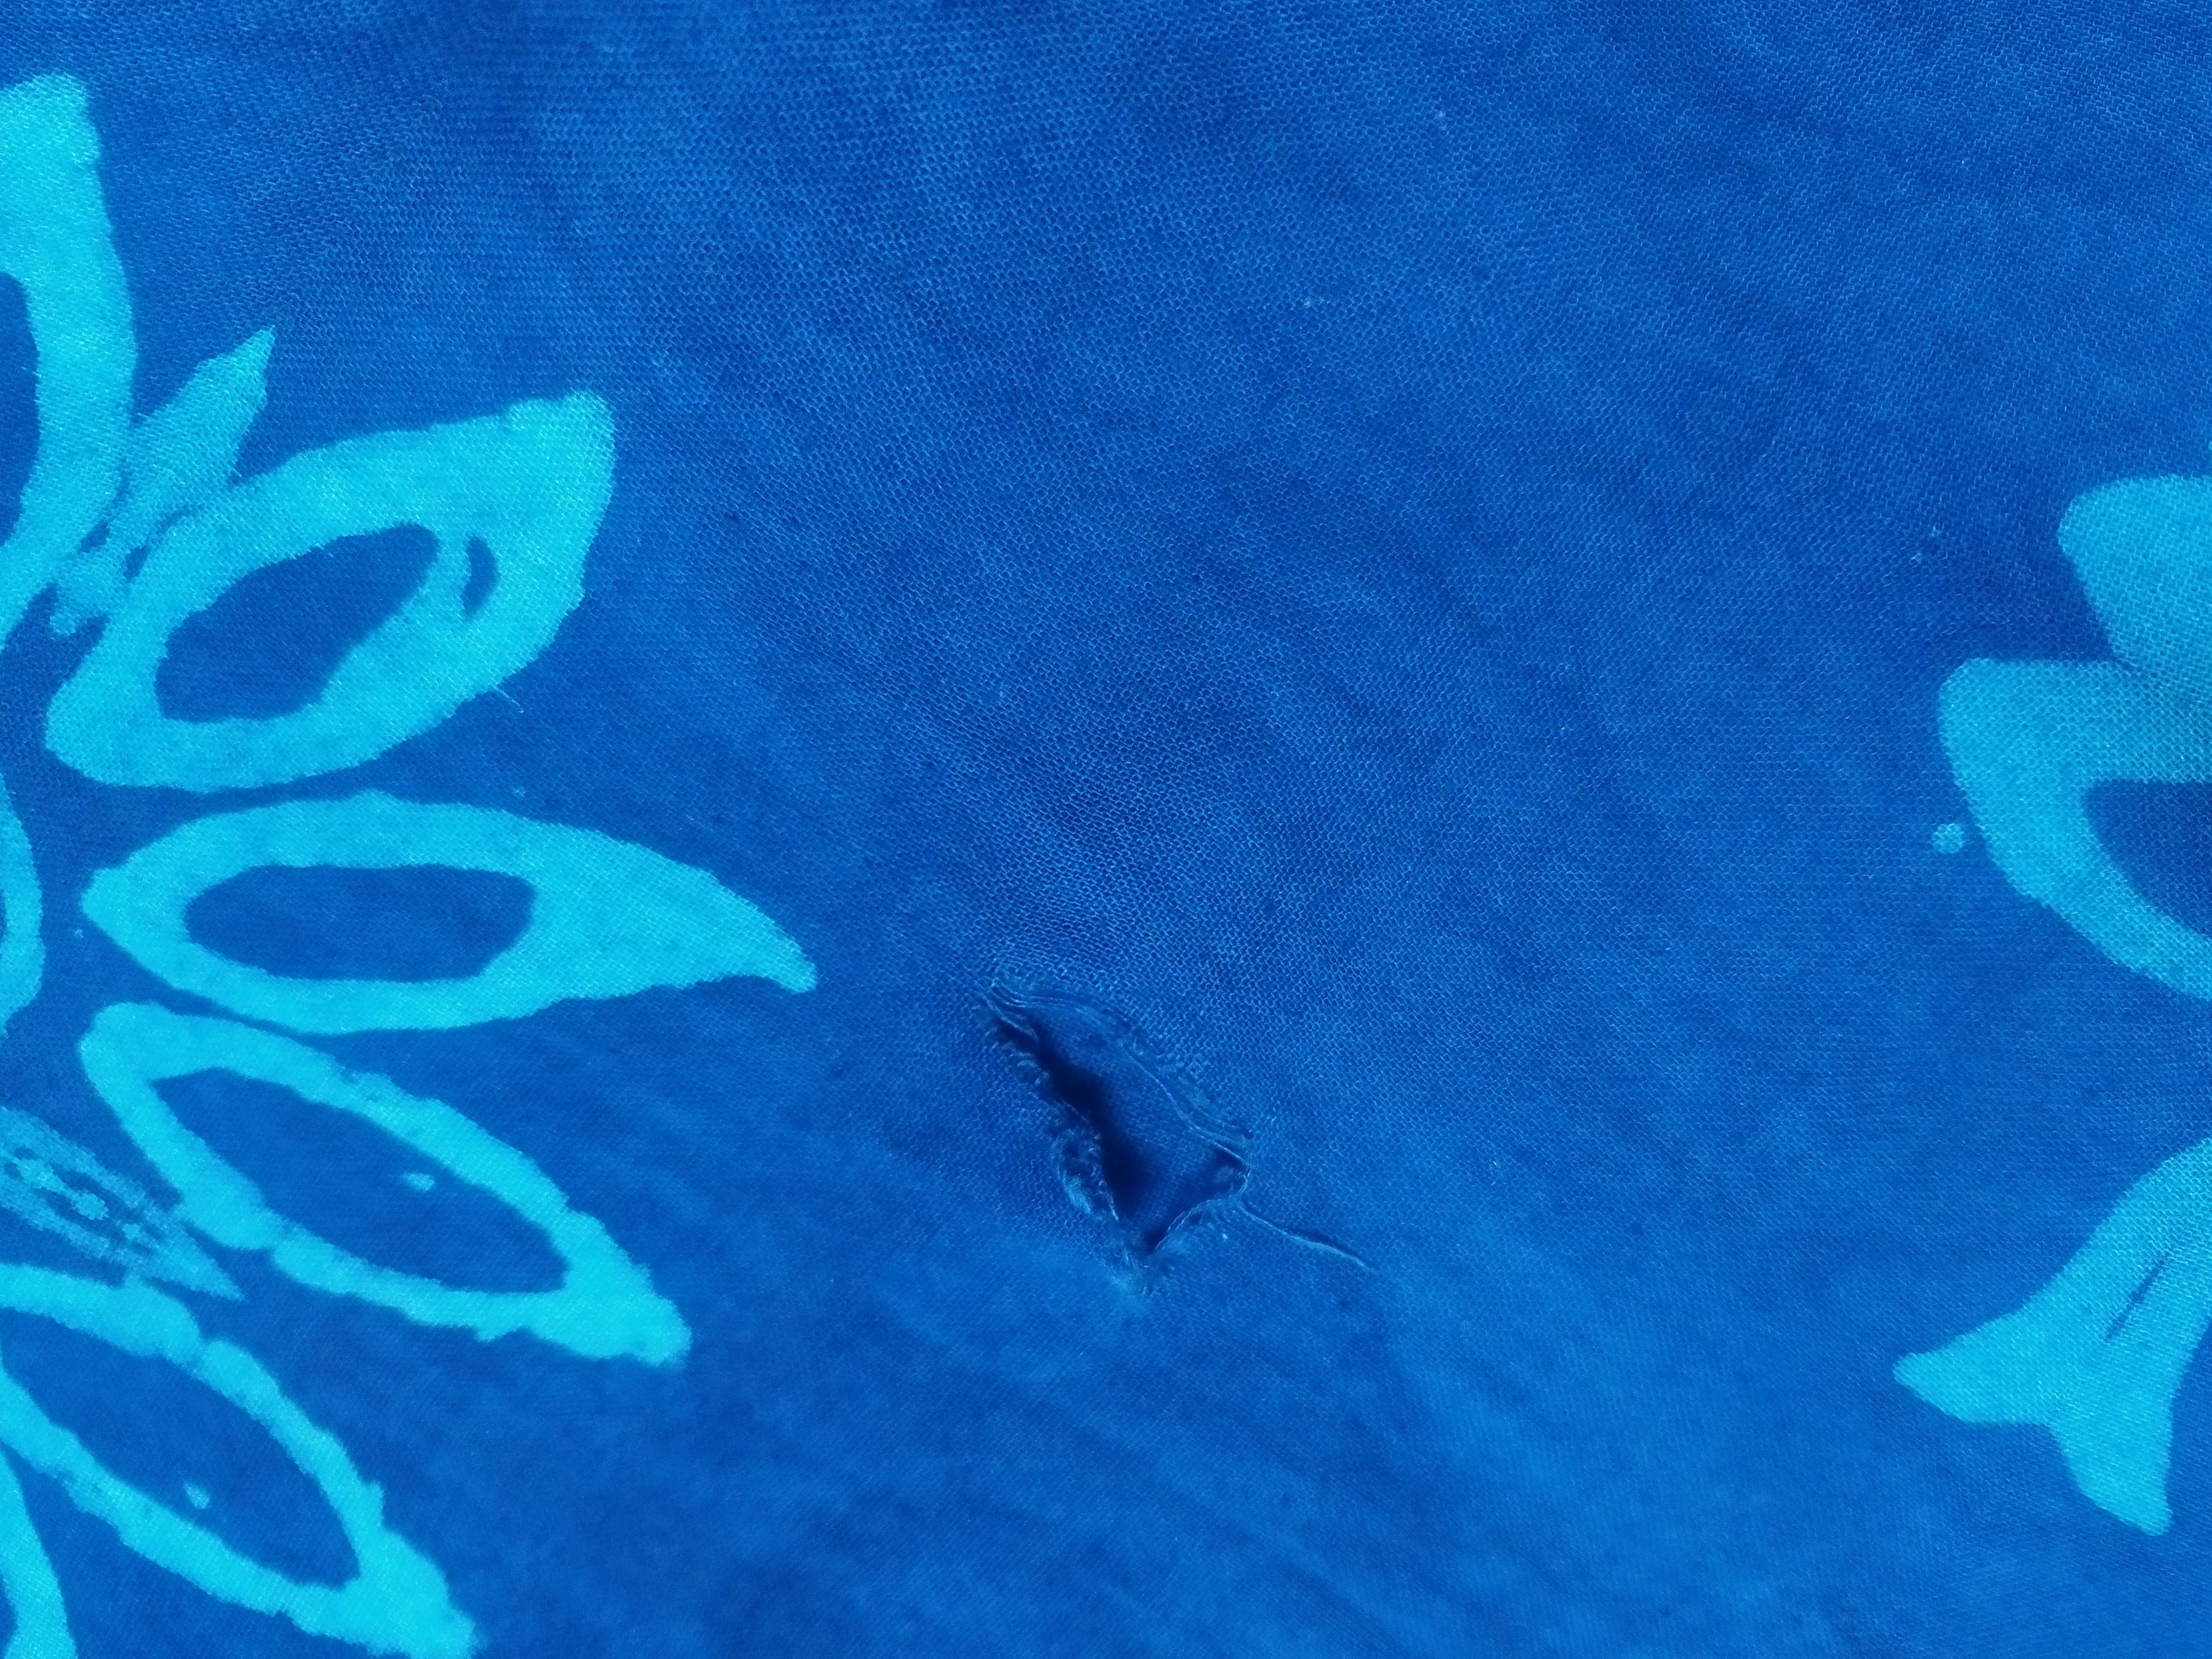hole: (954, 951, 1280, 1309)
